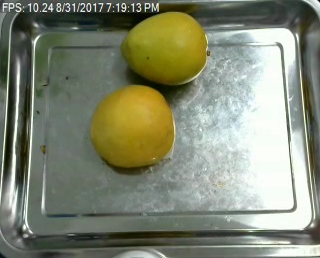Mango: (94, 86, 172, 167), (122, 13, 207, 85)
